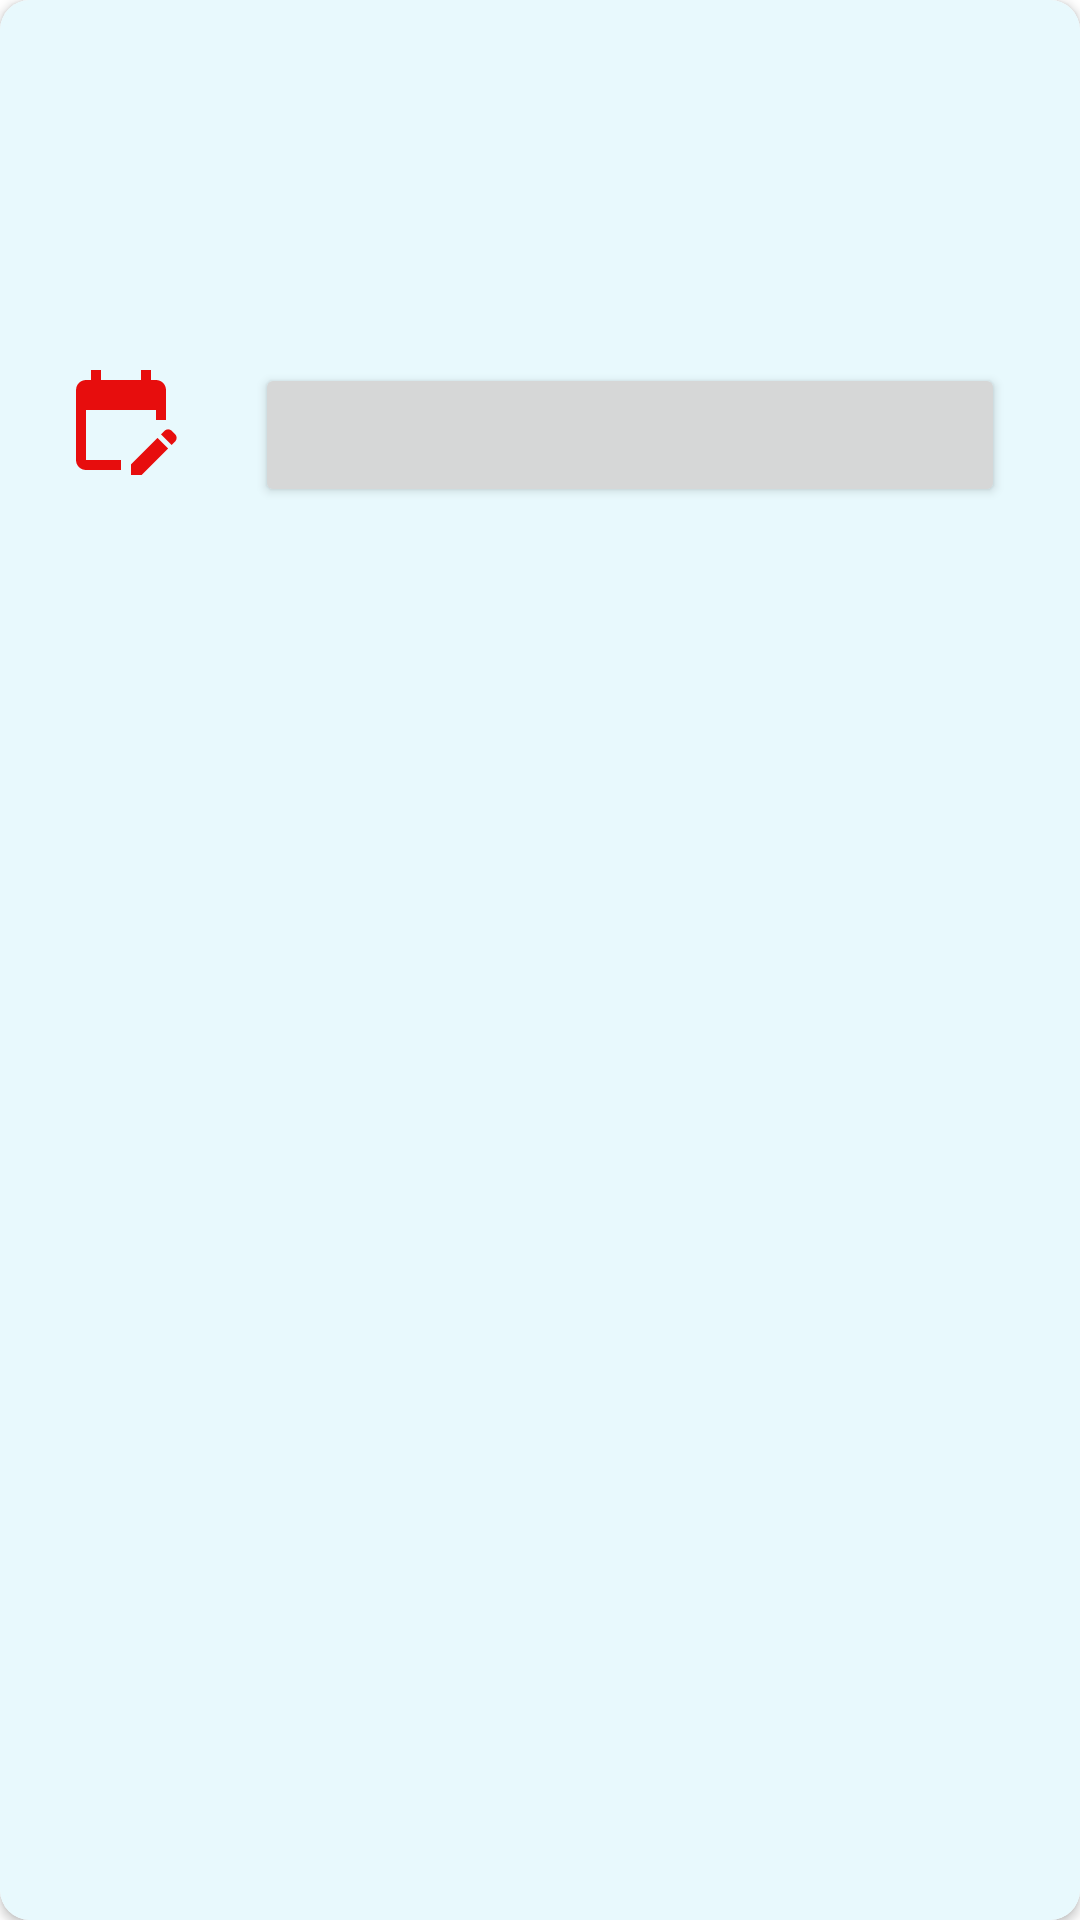

Where icons sit on this 1080px×1920px app screen, as (x1, y1, x2, y2):
edit: (76, 370, 177, 475)
